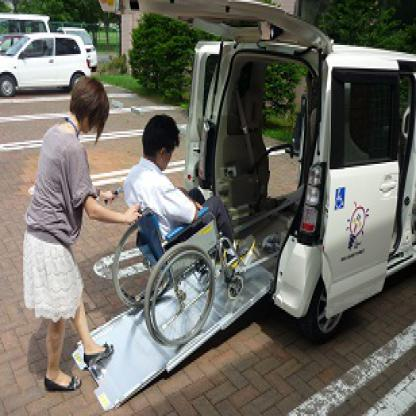wheelchair: (114, 112, 247, 344)
